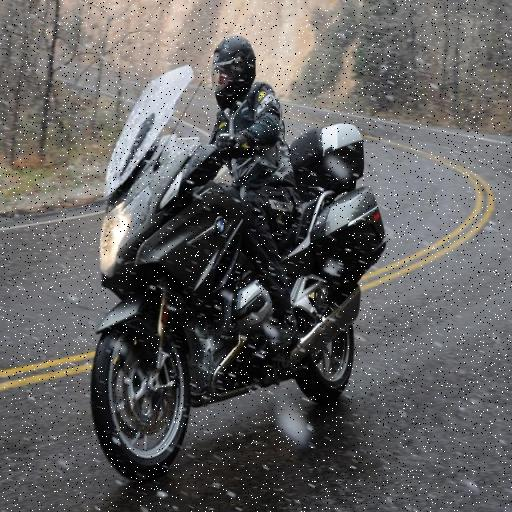Helmet: (212, 36, 255, 109)
Motor: (92, 67, 385, 479)
